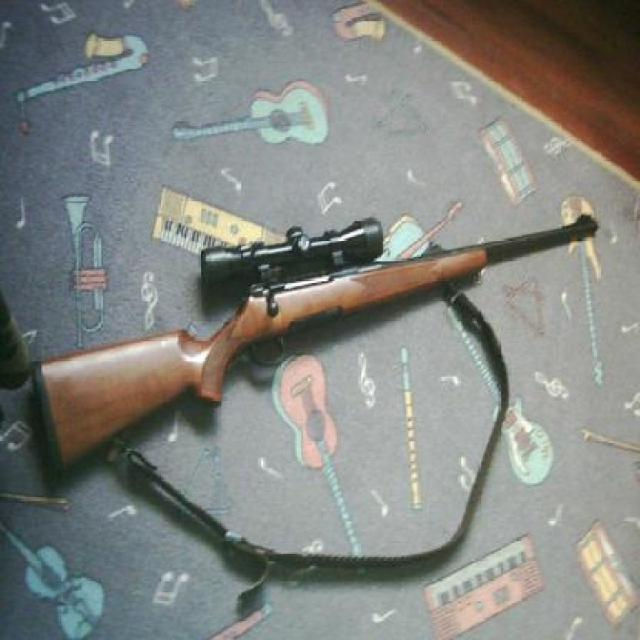Rifle: (22, 176, 618, 539)
